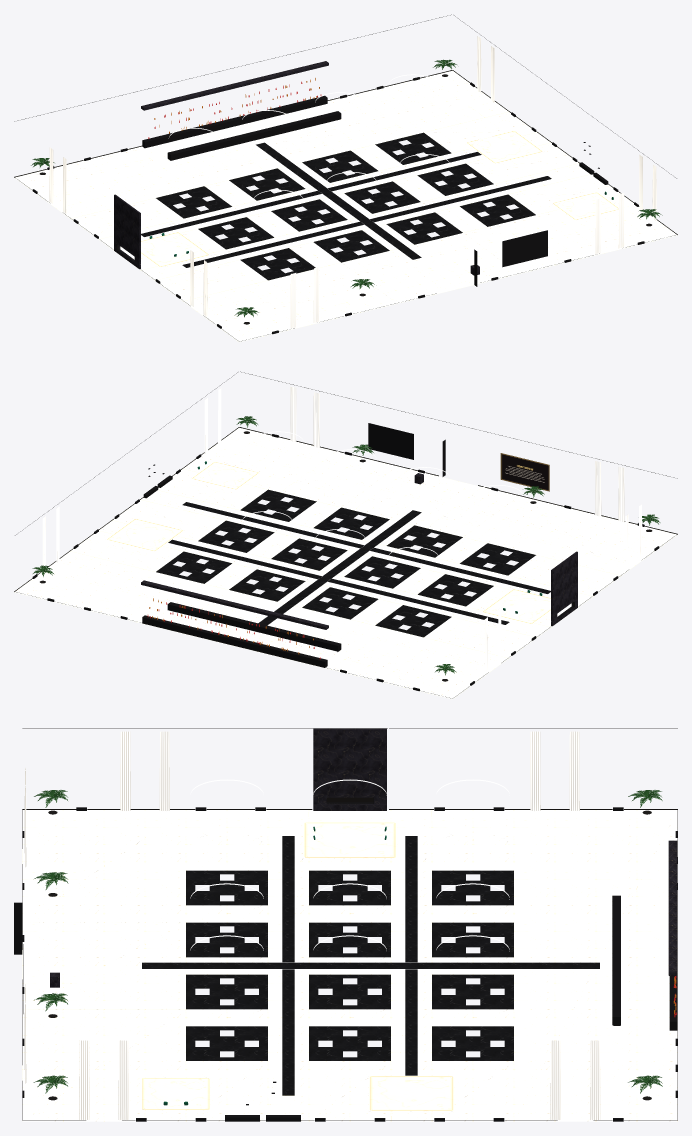
Rendered from tb_lounge2_p4.glb.
The picture shows the model from 3 angles, top to bottom: view 1: azimuth 30°, elevation 25°; view 2: azimuth 150°, elevation 25°; view 3: azimuth 270°, elevation 25°; orthographic projection. The views are drawn at different scales.
Parts seen in each view (by area): view 1: tb_lounge_p4; view 2: tb_lounge_p4; view 3: tb_lounge_p4.
Part boxes in pixels (x1,y1,x2,y2): tb_lounge_p4: (14, 14, 677, 342); tb_lounge_p4: (14, 371, 677, 699); tb_lounge_p4: (14, 728, 677, 1121).
Size of the model in its own units: 72.25 by 10 by 64.8.
13 materials, 7 textured.
